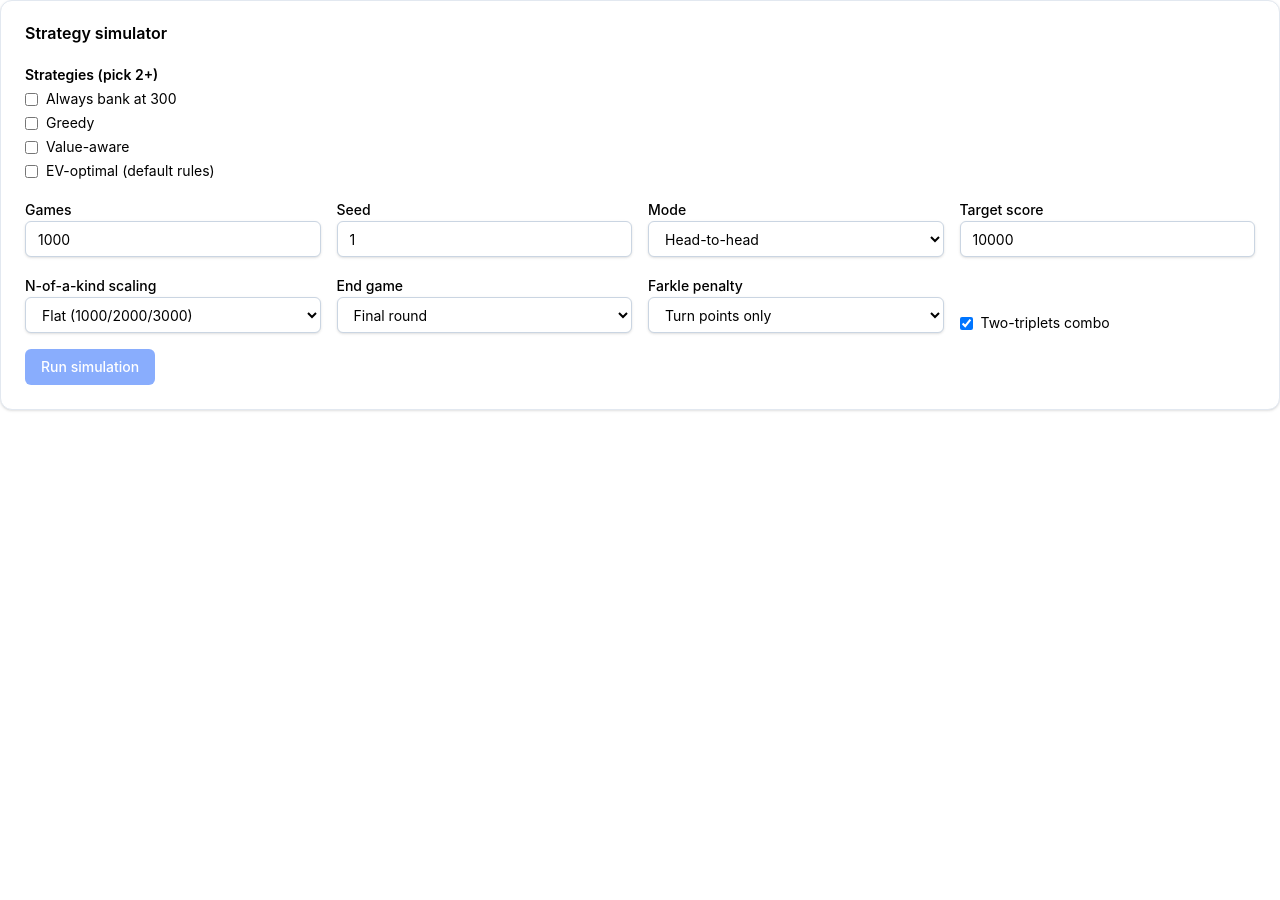
Test: SimulatorPage › runs a simulation and renders per-strategy results
Click the checkbox labelled "Always bank at 300".
click(32, 99)  # box [25, 92, 38, 106]
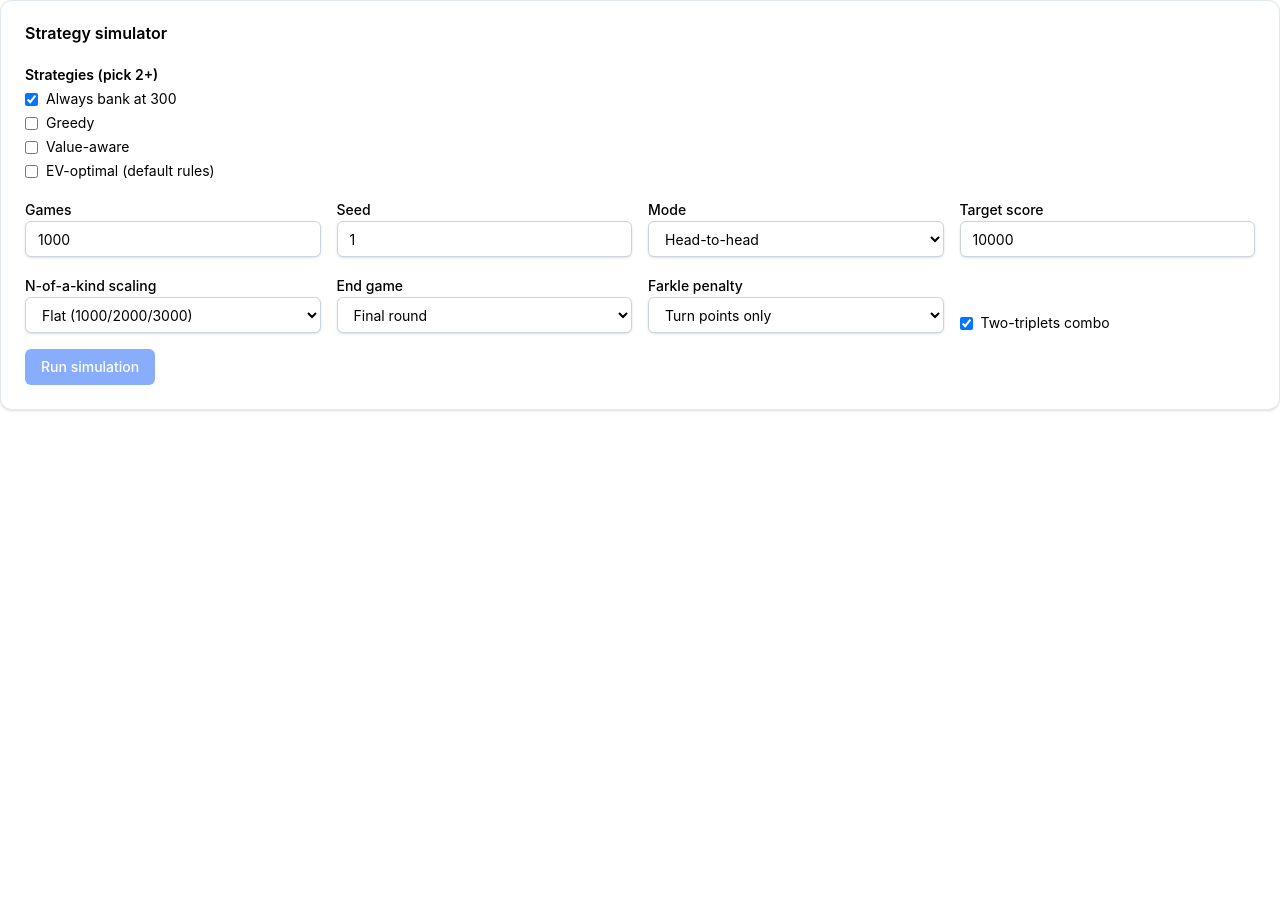
Click the checkbox labelled "EV-optimal (default rules)".
click(32, 171)  # box [25, 164, 38, 178]
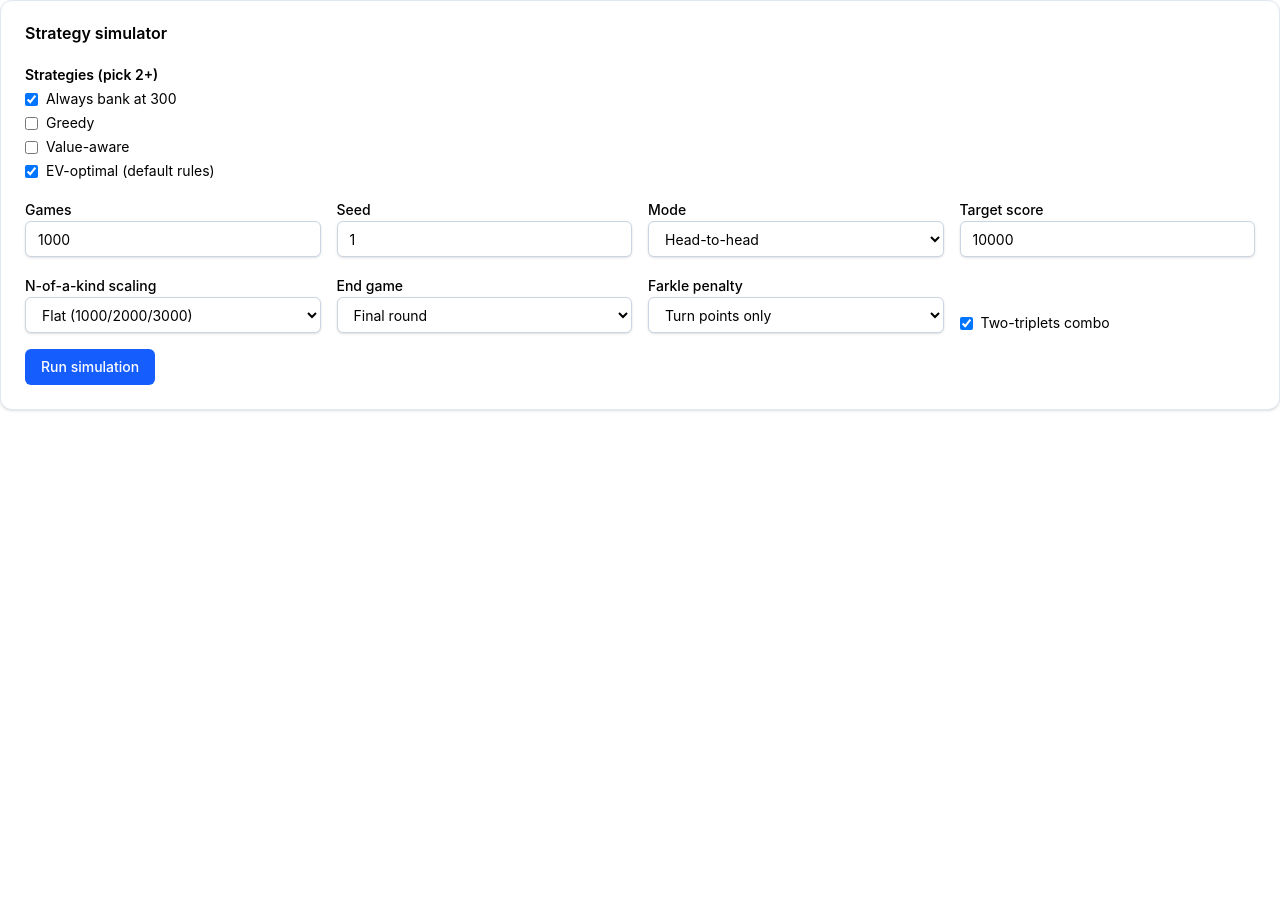
Replace the text in the number field labelled "Games" with "25" at (173, 239), box [25, 221, 320, 257]
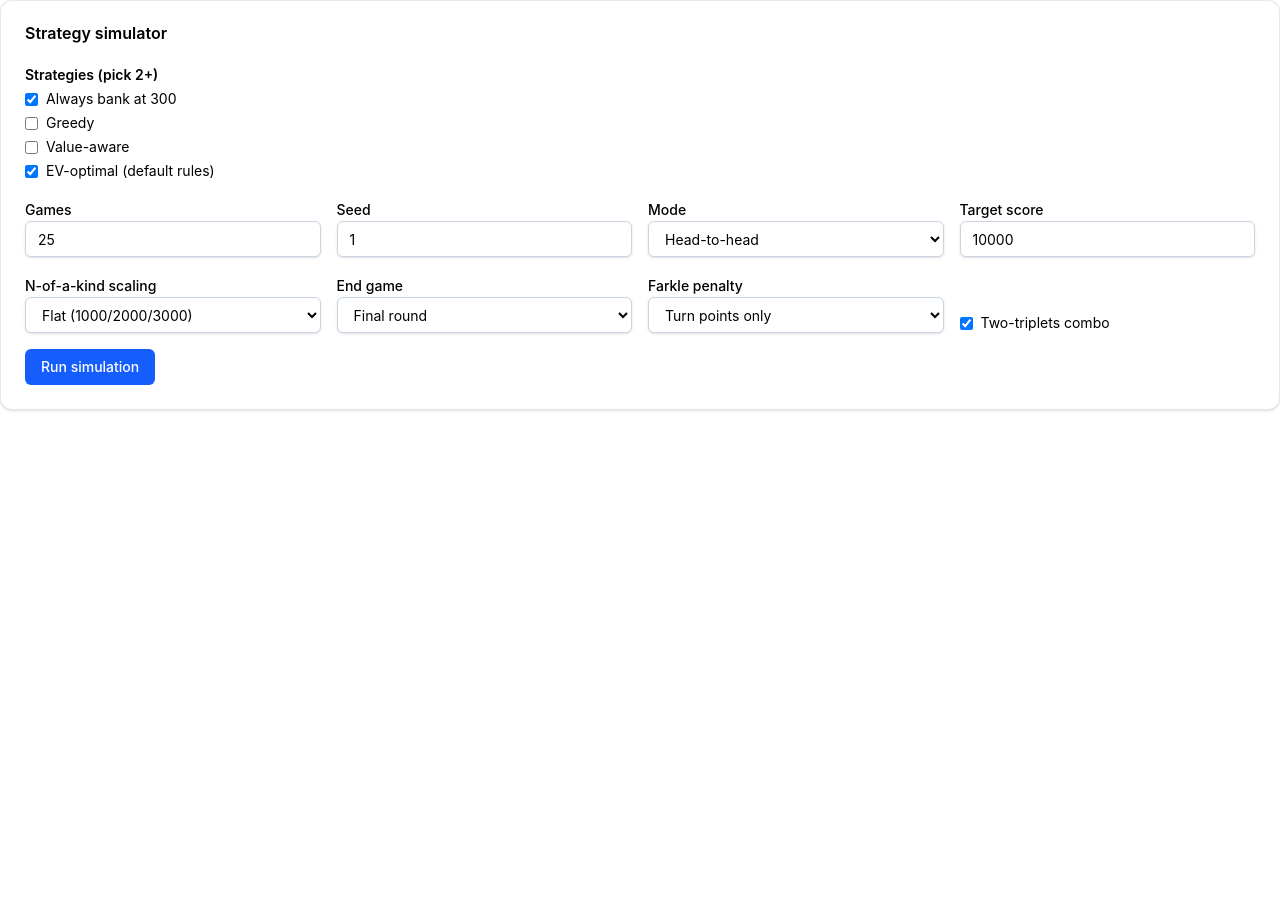
Replace the text in the number field labelled "Seed" with "5" at (484, 239), box [336, 221, 632, 257]
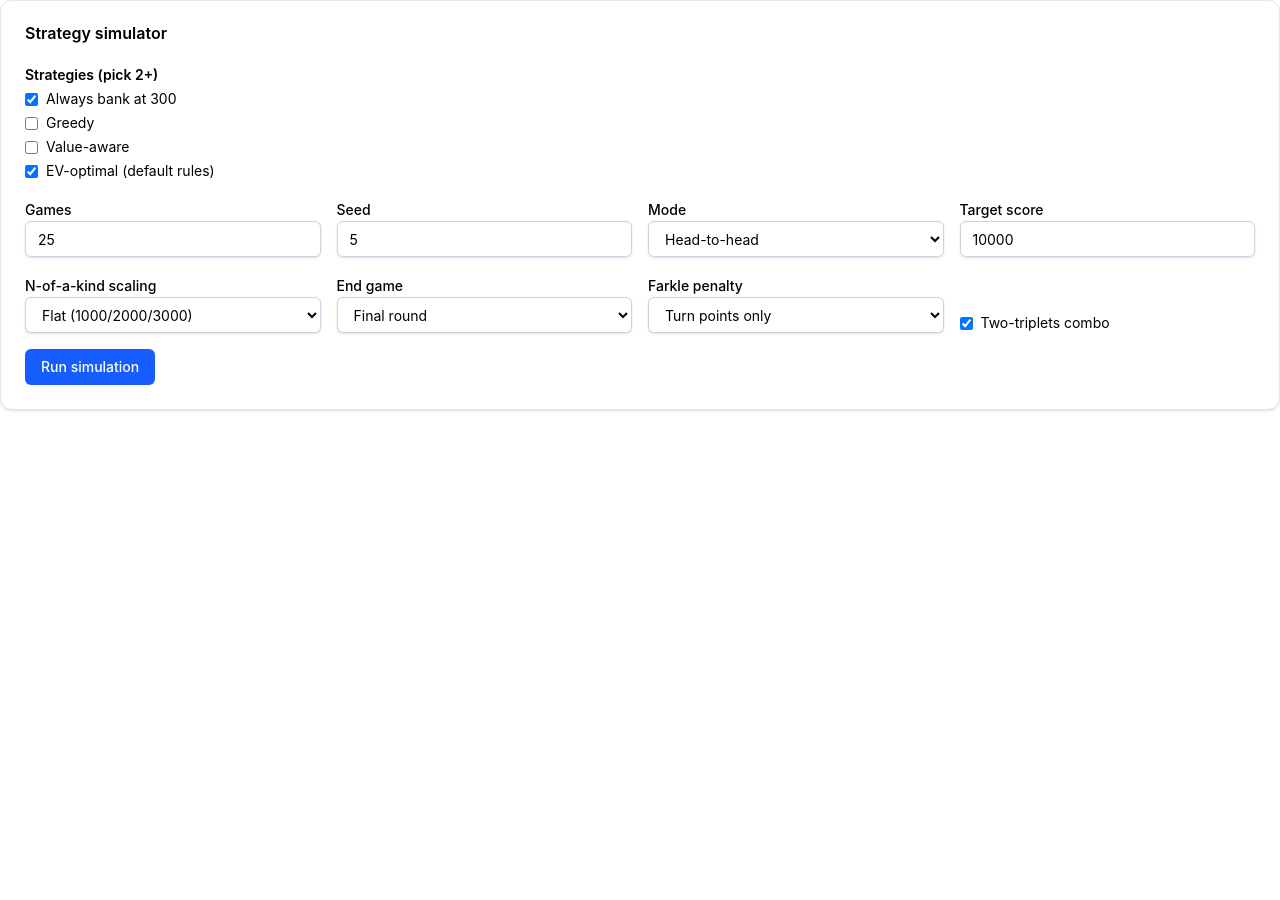
Click the button "Run simulation".
click(90, 367)  # box [25, 349, 155, 385]
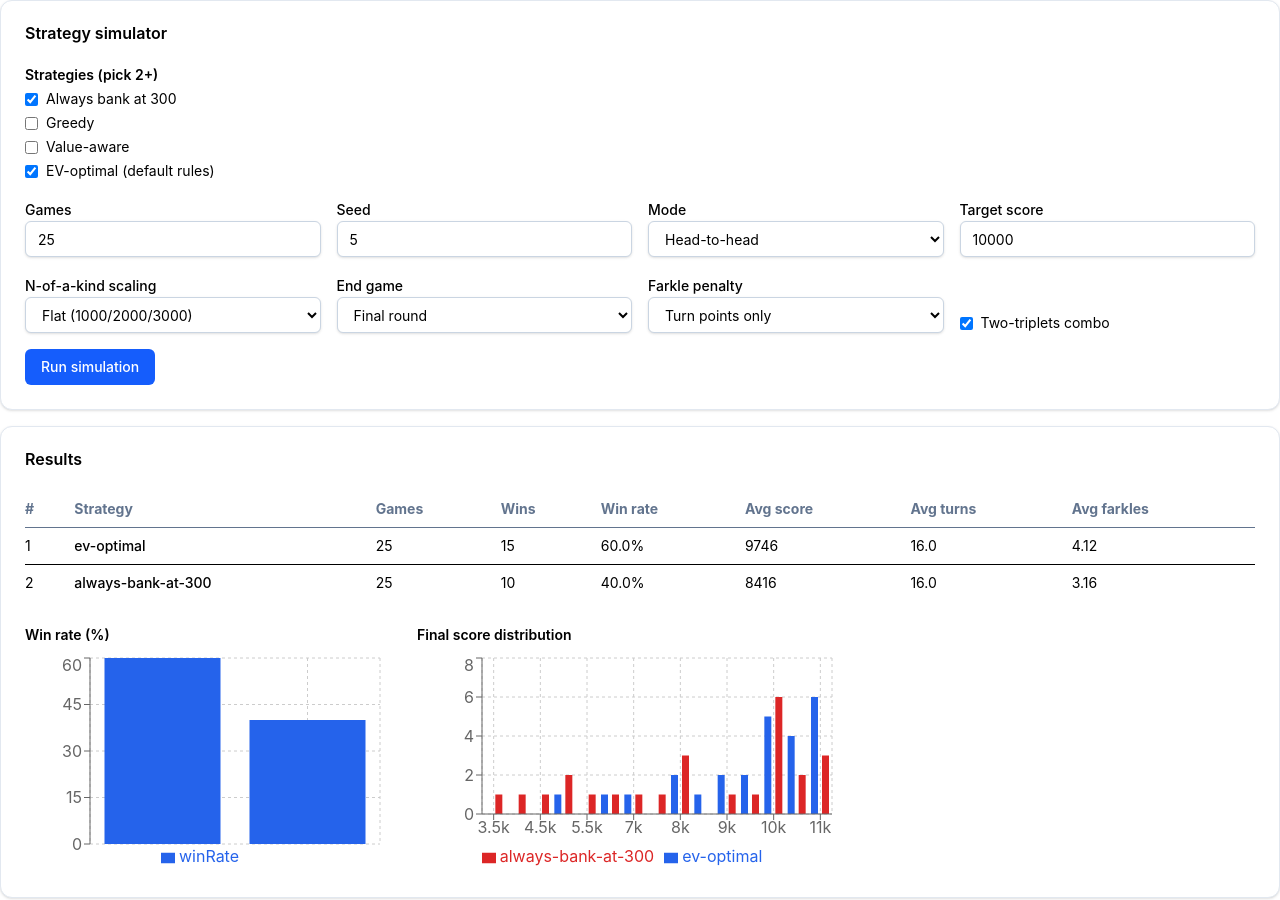
Expected: the table is shown, [25, 491, 1255, 601]
Expected: the table shows "always-bank-at-300", [74, 574, 212, 591]
Expected: the table shows "ev-optimal", [74, 537, 146, 554]
